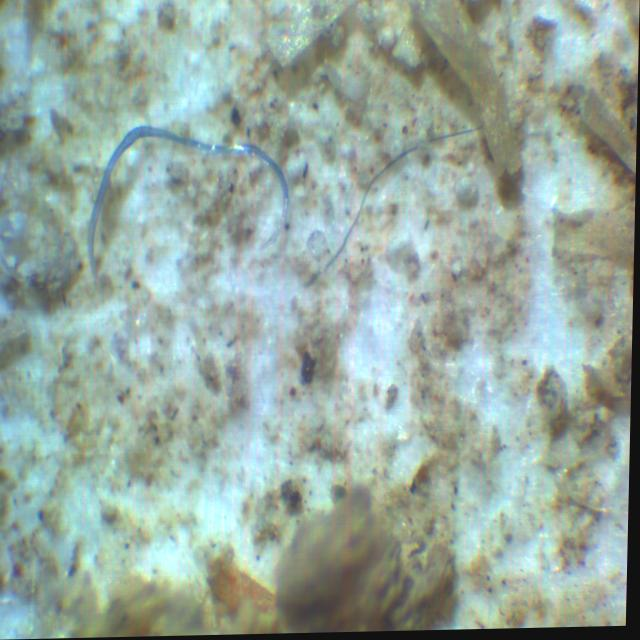microplastic: (88, 127, 290, 285), (323, 128, 484, 274)
